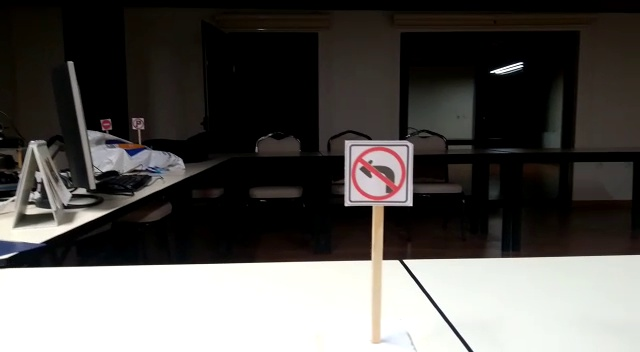sola_donulmez: (351, 147, 407, 200)
